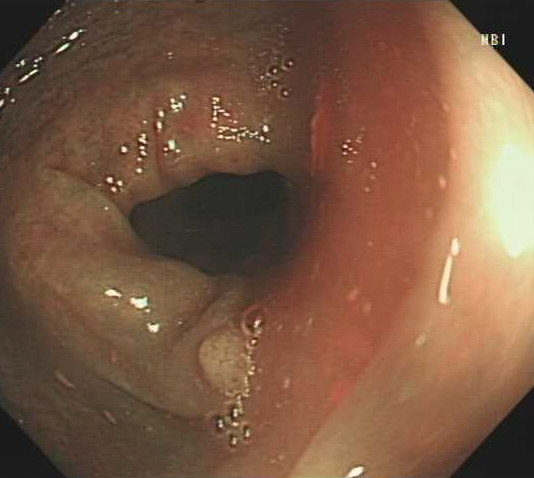others: (195, 328, 255, 398)
